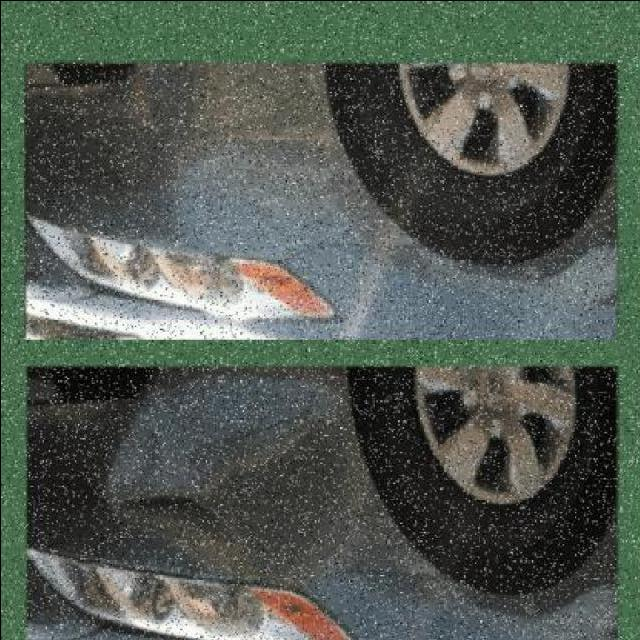front-bumper-dent: (2, 355, 384, 593)
